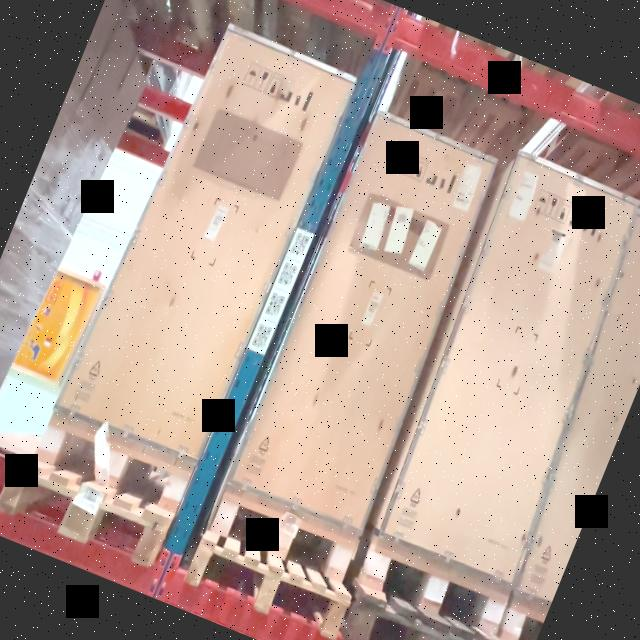box: (78, 32, 348, 454), (232, 111, 498, 527), (377, 164, 638, 574)
